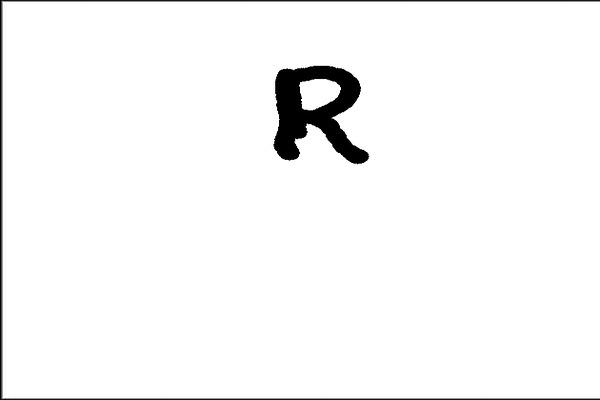R: (266, 58, 380, 168)
